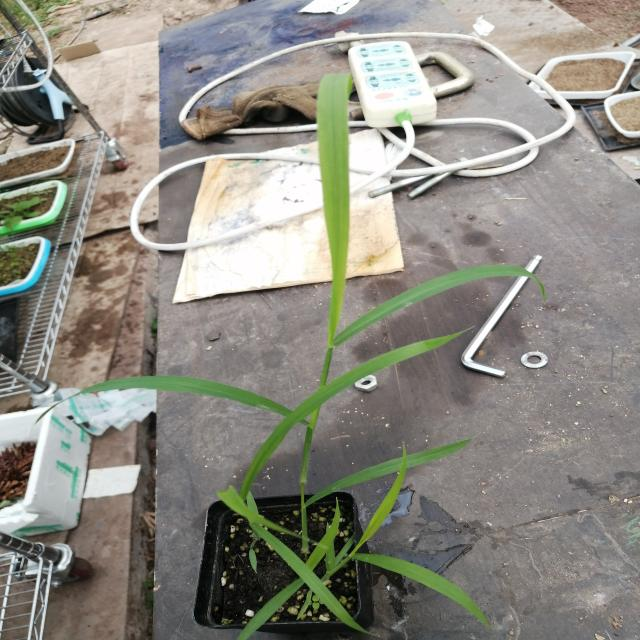crabgrass: (168, 88, 490, 624)
